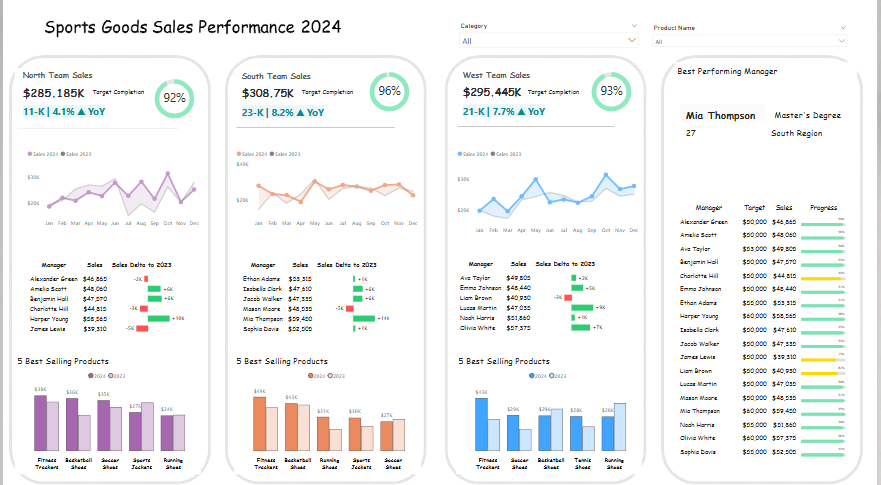

What the dashboard file says about the page in this screenshot:
{"tool":"powerbi","page":{"name":"Sales Team Performance","canvas":[1935,1080],"ordinal":0},"visuals":[{"type":"cardVisual","fields":{"Data":["_Measures.Sales"]},"box":[27.4,122,366.1,139.5],"z":0},{"type":"cardVisual","fields":{"Data":["_Measures.Sales"]},"box":[1001.1,122,358.6,137],"z":1000},{"type":"cardVisual","fields":{"Data":["_Measures.Sales"]},"box":[511.4,125,361.4,136.4],"z":2000},{"type":"lineChart","fields":{"Category":["DateTable.Month Name"],"Y":["_Measures.Sales","_Measures._1 Sales PY"]},"box":[47.7,293.2,390.9,190.9],"z":3000},{"type":"lineChart","fields":{"Category":["DateTable.Month Name"],"Y":["_Measures.Sales","_Measures._1 Sales PY"]},"box":[1000,293.2,413.6,206.8],"z":4000},{"type":"lineChart","fields":{"Category":["DateTable.Month Name"],"Y":["_Measures.Sales","_Measures._1 Sales PY"]},"box":[511.4,293.2,413.6,190.9],"z":5000},{"type":"clusteredColumnChart","title":"5 Best Selling Products","fields":{"Category":["Products.Product Name"],"Y":["_Measures.Sales","_Measures._1 Sales PY"]},"box":[27.3,756.8,411.4,263.6],"z":6000},{"type":"clusteredColumnChart","title":"5 Best Selling Products","fields":{"Category":["Products.Product Name"],"Y":["_Measures.Sales","_Measures._1 Sales PY"]},"box":[511.4,756.8,413.6,263.6],"z":7000},{"type":"clusteredColumnChart","title":"5 Best Selling Products","fields":{"Category":["Products.Product Name"],"Y":["_Measures.Sales","_Measures._1 Sales PY"]},"box":[1002.3,756.8,411.4,263.6],"z":8000},{"type":"tableEx","fields":{"Values":["Managers.Manager","_Measures.Sales","_Measures.1_Sales DeltaPY SVG"]},"box":[48,543,391,191],"z":9000},{"type":"tableEx","fields":{"Values":["Managers.Manager","_Measures.Sales","_Measures.1_Sales DeltaPY SVG"]},"box":[520.5,542.9,391,191.8],"z":10000},{"type":"tableEx","fields":{"Values":["Managers.Manager","_Measures.Sales","_Measures.1_Sales DeltaPY SVG"]},"box":[1001.1,540.4,391,191.8],"z":11000},{"type":"textbox","box":[191.8,159.4,161.9,34.9],"z":12000},{"type":"textbox","box":[191.8,159.4,161.9,34.9],"z":13000},{"type":"textbox","box":[655,159.4,181.8,34.9],"z":14000},{"type":"textbox","box":[1155.5,159.4,161.9,34.9],"z":15000},{"type":"cardVisual","fields":{"Data":["_Measures._Blank"]},"box":[272.2,106.2,177,150.5],"z":16000},{"type":"cardVisual","fields":{"Data":["_Measures._Blank"]},"box":[734.8,135,188.1,108.4],"z":17000},{"type":"cardVisual","fields":{"Data":["_Measures._Blank"]},"box":[1225.3,107.1,189.3,137],"z":18000},{"type":"tableEx","fields":{"Values":["Managers.Manager","_Measures.Target","_Measures.Sales","_Measures.6_SVG_Progress_BAR"]},"box":[1488.1,416.7,402.4,583.3],"z":19000},{"type":"textbox","box":[1487.5,107.5,402.5,55],"z":20000},{"type":"cardVisual","fields":{"Data":["_Measures._2 Top 1 Manager Name","_Measures._2 Education for Top 1 Manager","_Measures._2 Age for Top 1 Manager","_Measures._2 Region for Top 1 Manager"]},"box":[1487.2,194.8,391.7,199.2],"z":21000},{"type":"slicer","fields":{"Values":["Products.Category"]},"box":[1000.3,15.5,416.1,64.2],"z":21001},{"type":"slicer","fields":{"Values":["Products.Product Name"]},"box":[1427.5,19.9,451.5,59.8],"z":21002}]}

Visuals, with their boxes in screenshot pixels (x1, y1, x2, y2), scaled from the page's 1935x1080 canvas onto the 881x485 screenshot:
cardVisual - _Measures.Sales: BBox(12, 55, 179, 117)
cardVisual - _Measures.Sales: BBox(456, 55, 619, 116)
cardVisual - _Measures.Sales: BBox(233, 56, 397, 117)
lineChart - DateTable.Month Name x _Measures.Sales: BBox(22, 132, 200, 217)
lineChart - DateTable.Month Name x _Measures.Sales: BBox(455, 132, 644, 225)
lineChart - DateTable.Month Name x _Measures.Sales: BBox(233, 132, 421, 217)
"5 Best Selling Products" clusteredColumnChart: BBox(12, 340, 200, 458)
"5 Best Selling Products" clusteredColumnChart: BBox(233, 340, 421, 458)
"5 Best Selling Products" clusteredColumnChart: BBox(456, 340, 644, 458)
tableEx - Managers.Manager x _Measures.Sales: BBox(22, 244, 200, 330)
tableEx - Managers.Manager x _Measures.Sales: BBox(237, 244, 415, 330)
tableEx - Managers.Manager x _Measures.Sales: BBox(456, 243, 634, 329)
textbox: BBox(87, 72, 161, 87)
textbox: BBox(87, 72, 161, 87)
textbox: BBox(298, 72, 381, 87)
textbox: BBox(526, 72, 600, 87)
cardVisual - _Measures._Blank: BBox(124, 48, 205, 115)
cardVisual - _Measures._Blank: BBox(335, 61, 420, 109)
cardVisual - _Measures._Blank: BBox(558, 48, 644, 110)
tableEx - Managers.Manager x _Measures.Target: BBox(678, 187, 861, 449)
textbox: BBox(677, 48, 861, 73)
cardVisual - _Measures._2 Top 1 Manager Name x _Measures._2 Education for Top 1 Manager: BBox(677, 87, 855, 177)
slicer - Products.Category: BBox(455, 7, 645, 36)
slicer - Products.Product Name: BBox(650, 9, 856, 36)
